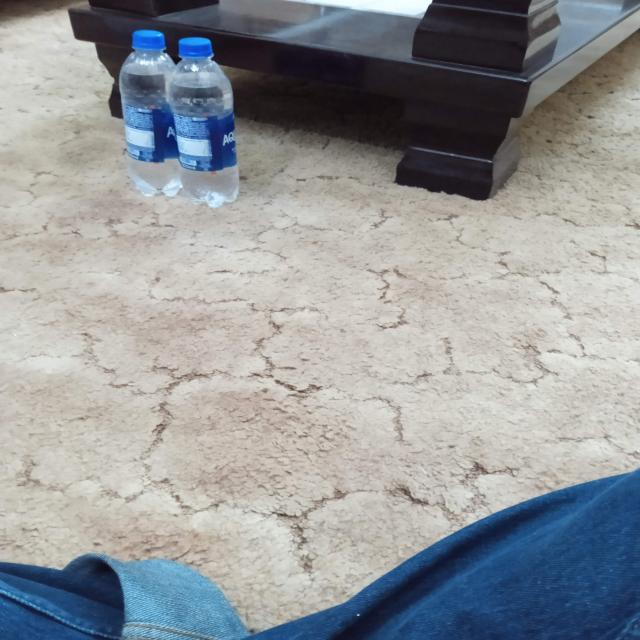Plastic: (174, 37, 236, 205), (122, 29, 176, 192)
